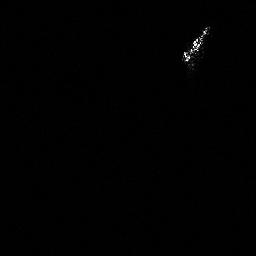ship: (181, 24, 212, 71)
